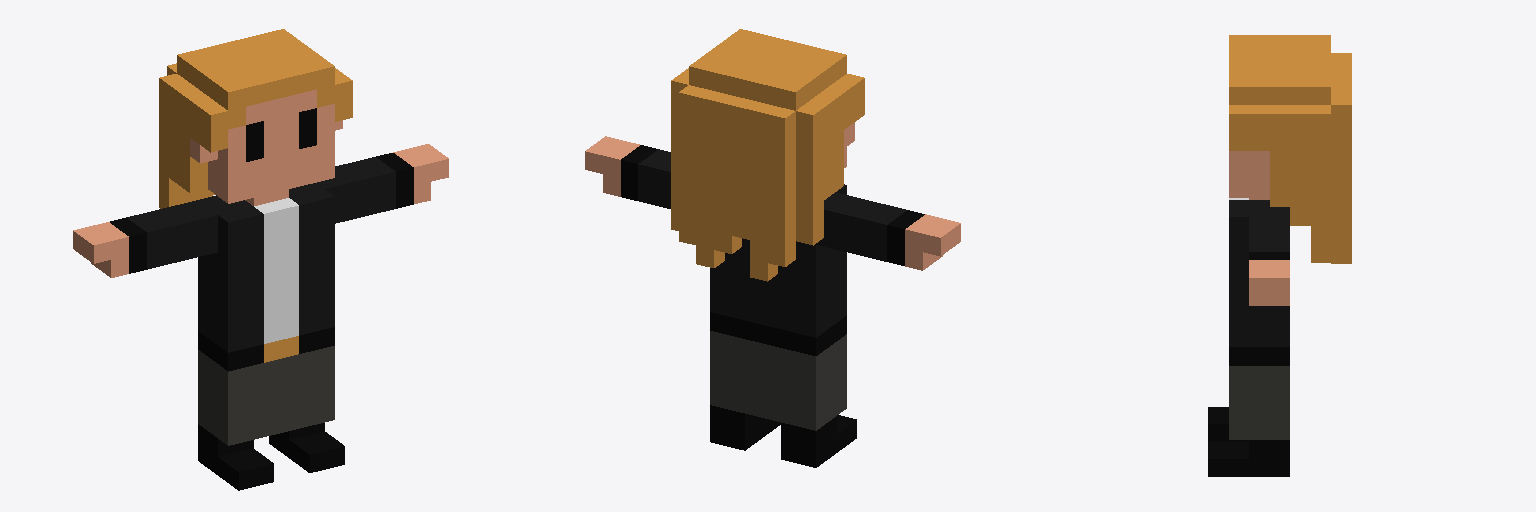
3 renders of one model, left to right at view 1: azimuth 30°, elevation 25°; view 2: azimuth 150°, elevation 25°; view 3: azimuth 270°, elevation 25°, orthographic.
Visible parts, largest first — view 1: object 1; view 2: object 1; view 3: object 1.
Boxes of the visible parts, <box> form: object 1: <box>73,29,448,490</box>; object 1: <box>585,29,960,467</box>; object 1: <box>1208,35,1351,476</box>.
Size of the model in its own units: 2 by 2.1 by 0.7.
1 materials, 1 textured.